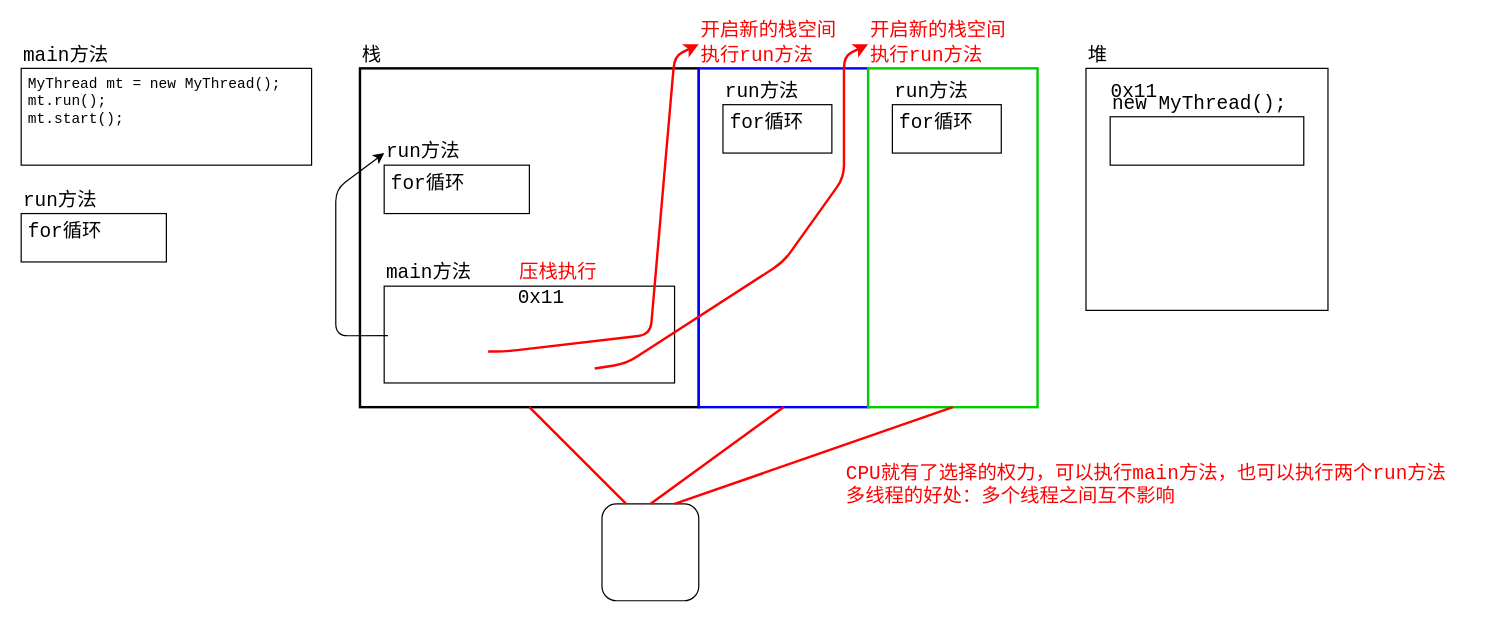
Image size: 1494x622. Some labels were removed from this diagram. The box of each missing label's shape, as (x1, y1, x2, y2) in pixels:
CPU: (601, 503, 699, 601)
MyThread mt = new MyThread(); mt.run(); mt.start(); new MyThread().start();: (383, 285, 675, 383)
